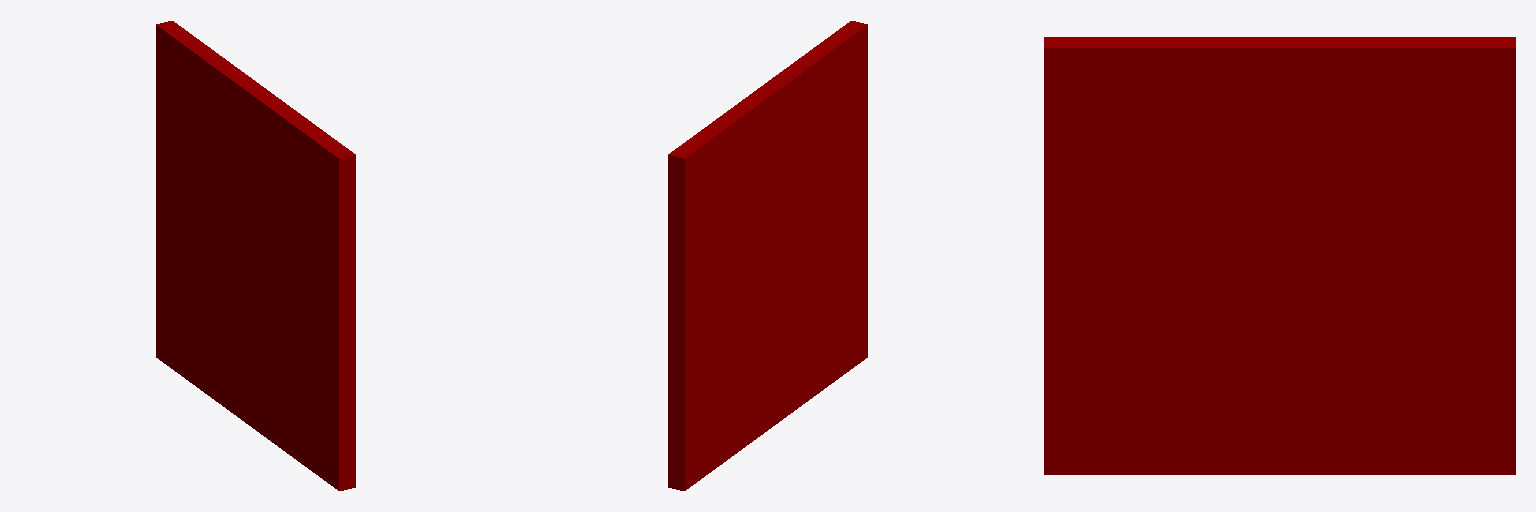
URDF robot description (square):
<?xml version="1.0"?>
<!-- created with Phobos 1.0.1 "Capricious Choutengan" -->
  <robot name="square">

    <link name="Untitled">
      <inertial>
        <origin xyz="0 0 0" rpy="0 0 0"/>
        <mass value="0.001"/>
        <inertia ixx="0.001" ixy="0" ixz="0" iyy="0.001" iyz="0" izz="0.001"/>
      </inertial>
      <visual name="Cube">
        <origin xyz="0 0 0" rpy="0 0 0"/>
        <geometry>
          <box size="0.01 0.19 0.19"/>
        </geometry>
        <material name="Material.002"/>
      </visual>
    </link>

    <material name="Material.002">
      <color rgba="0.64 0 0 1.0"/>
    </material>

  </robot>

--- Facts derived from the render (not from the file) ---
3 views of the same robot in one strip: view 1: azimuth 30°, elevation 25°; view 2: azimuth 150°, elevation 25°; view 3: azimuth 270°, elevation 25° (orthographic).
Robot: square — 1 links, 0 joints (none); root link Untitled; default pose: every joint at zero.
Visible links, largest first — view 1: Untitled; view 2: Untitled; view 3: Untitled.
Link boxes in pixels (x1,y1,x2,y2): Untitled: (156,21,355,490); Untitled: (668,21,867,490); Untitled: (1044,37,1515,474).
Bounding box of the posed robot: 0.01 × 0.19 × 0.19 m (x, y, z).
Geometry: primitives only (box / cylinder / sphere), no mesh files.